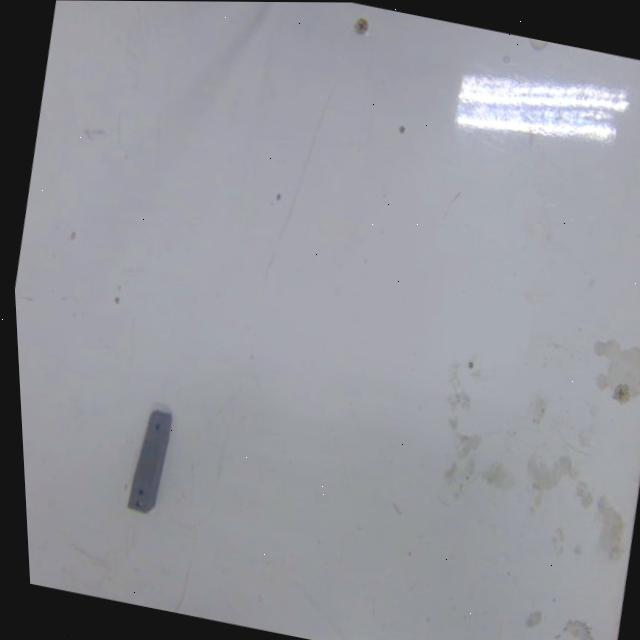grey: (116, 401, 181, 521)
head: (152, 419, 165, 435)
